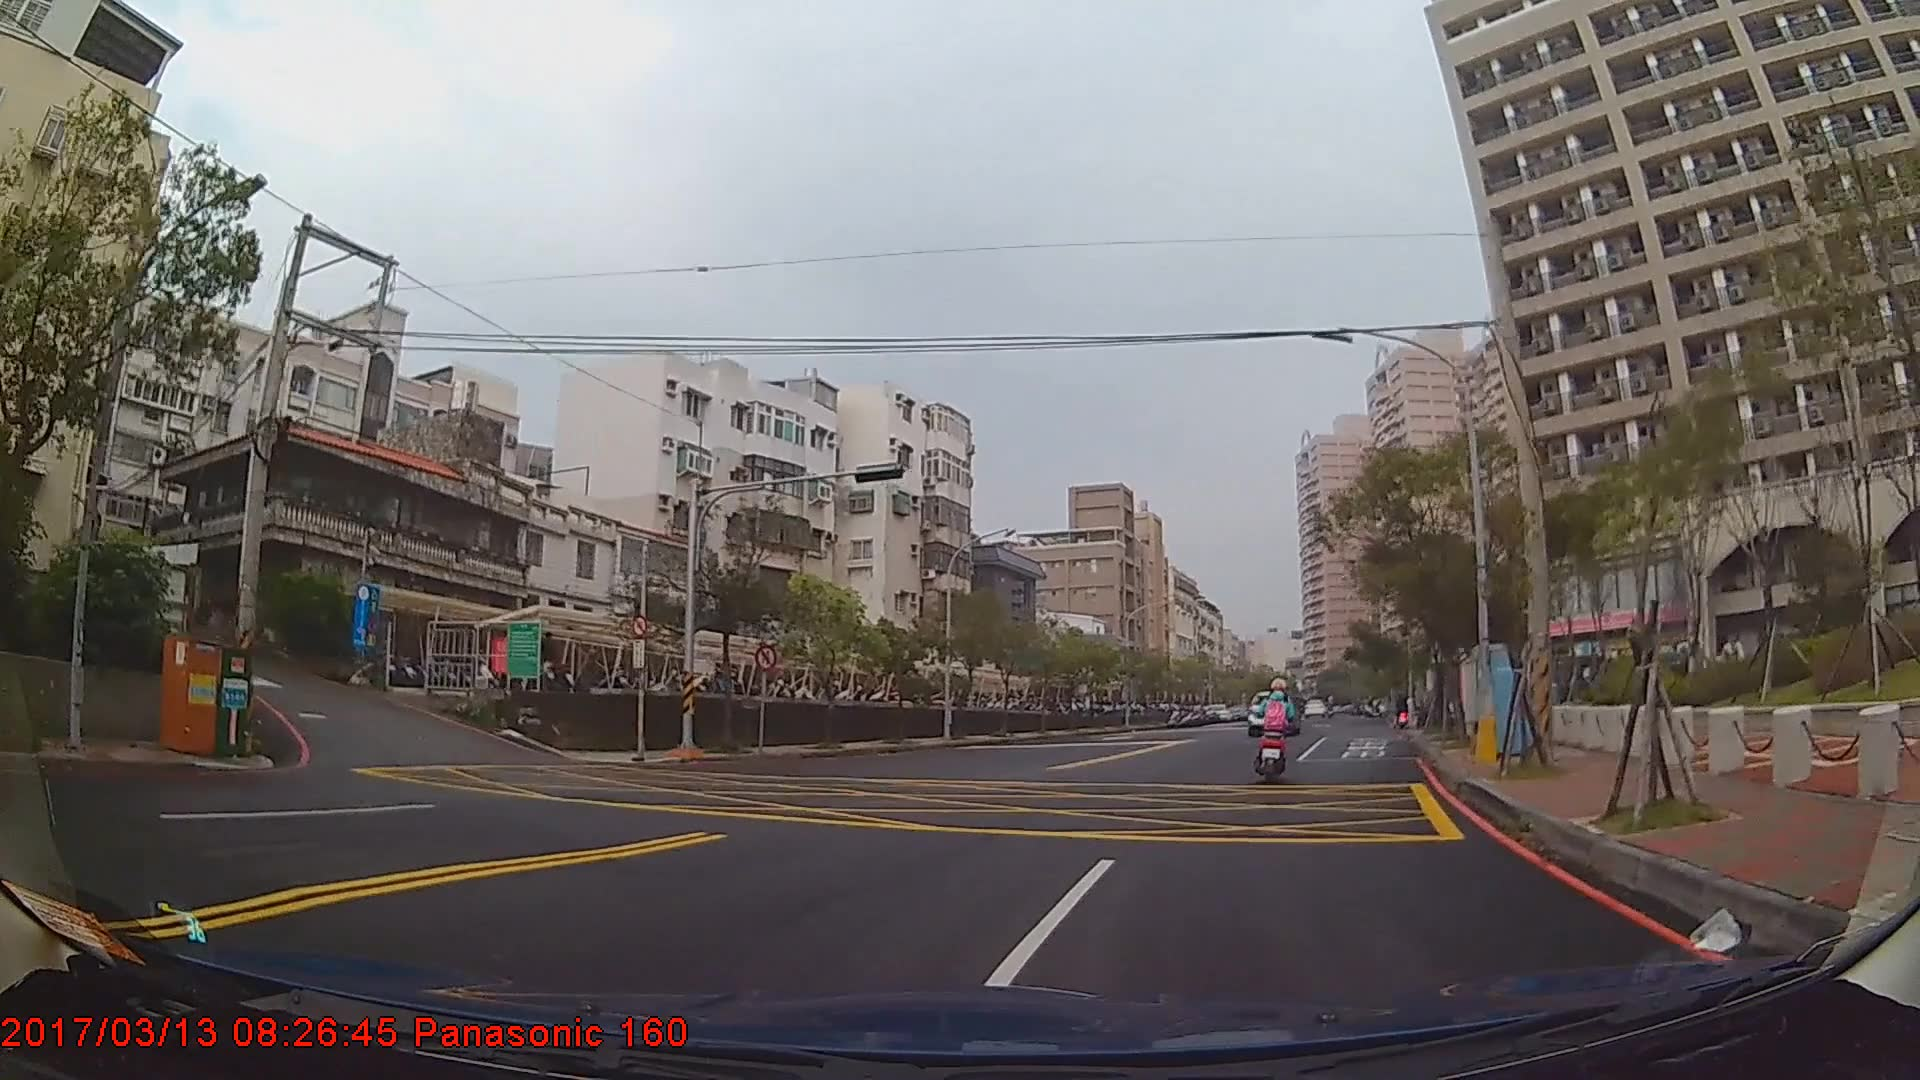rider: (1253, 679, 1300, 780)
vehicle: (1242, 687, 1298, 735)
